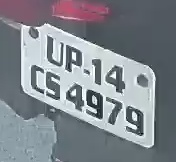1: (90, 56, 104, 88)
4: (105, 64, 128, 95), (66, 83, 84, 112)
7: (104, 94, 123, 133)
9: (124, 103, 146, 138), (85, 88, 104, 123)
C: (29, 65, 46, 97)
P: (63, 41, 83, 78)
S: (44, 71, 62, 102)
U: (45, 33, 65, 70)
